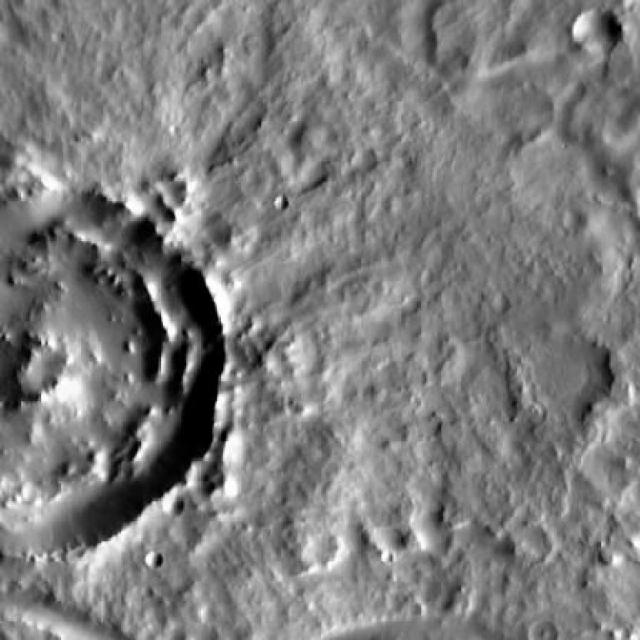crater: (0, 194, 226, 552), (505, 333, 600, 424), (572, 10, 620, 56), (168, 493, 190, 515), (529, 623, 557, 639), (144, 551, 161, 567)
